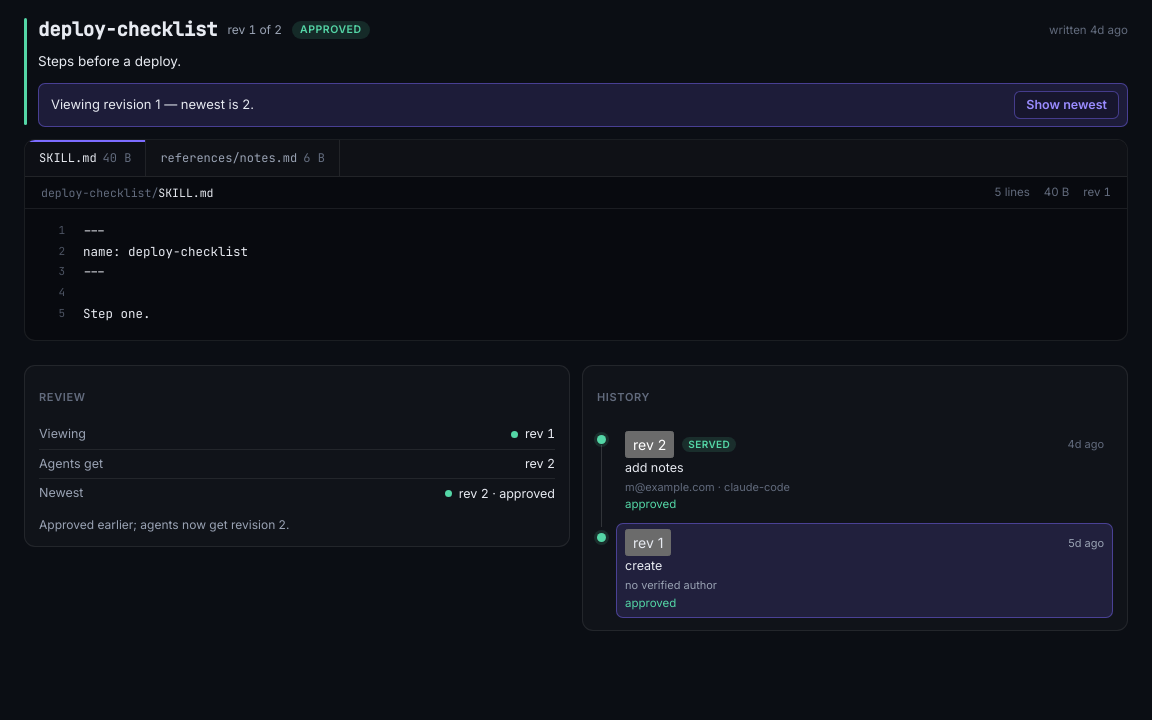
SkillDetail › loads a supporting file at the viewed revision, not current
This screenshot has width=1152, height=720.
What coordinates should you click on to do the following:
click the tab "references/notes.md 6 B"
I would click on:
 (243, 158)
Its box is [146,140,340,176].
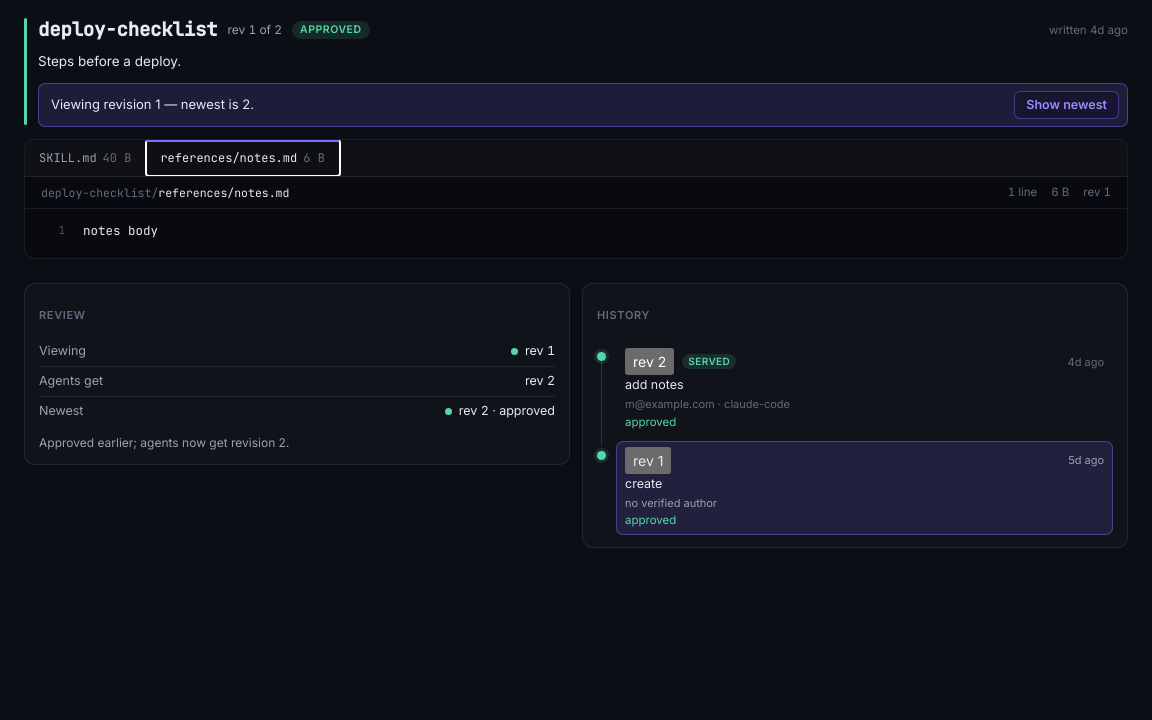
Expected: the text "notes body" is shown, [83,222,158,239]
